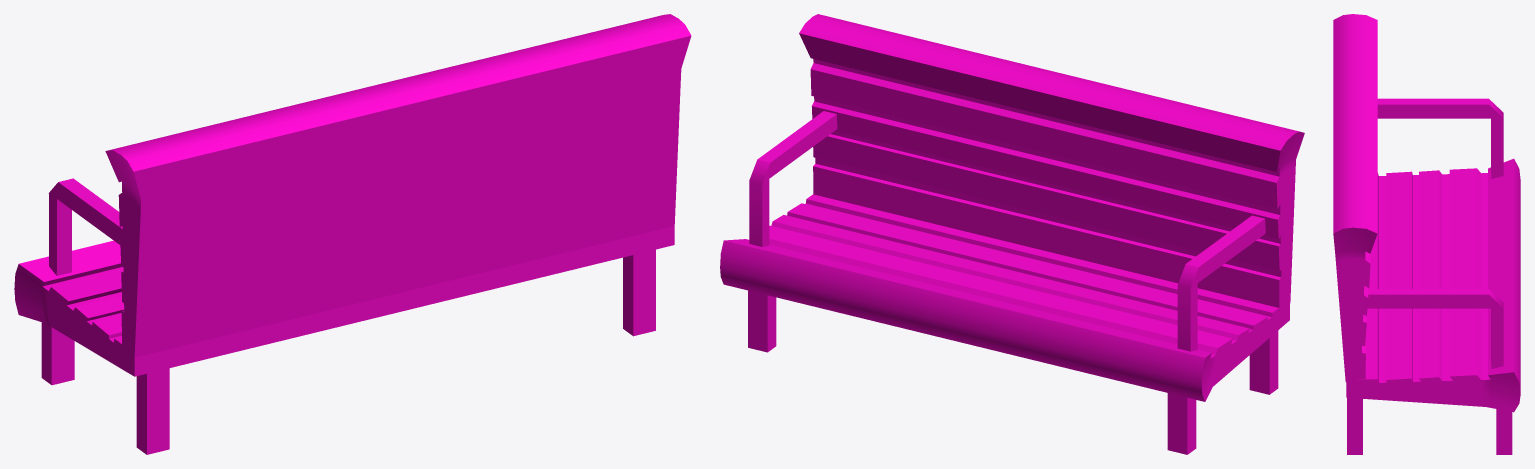
Rendered from Banca.fbx.
The picture shows the model from 3 angles, left to right: view 1: azimuth 30°, elevation 25°; view 2: azimuth 150°, elevation 25°; view 3: azimuth 270°, elevation 25°; orthographic projection. The views are drawn at different scales.
Visible parts, largest first — view 1: Banca_Low; view 2: Banca_Low; view 3: Banca_Low.
Part boxes in pixels (box(x1,y1,x2,y2)): Banca_Low: box(14, 14, 691, 454); Banca_Low: box(720, 14, 1304, 454); Banca_Low: box(1333, 14, 1520, 454).
Bounding box in the file's own units: 223 × 116 × 82.65.
